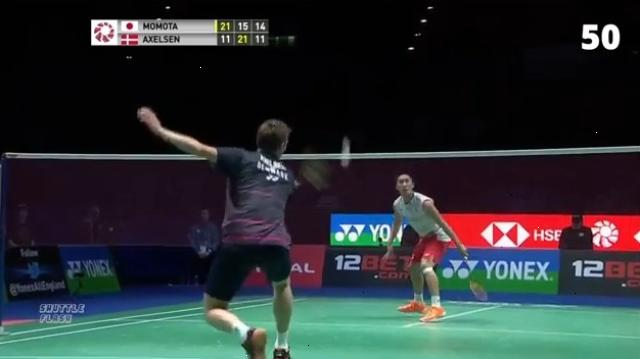Shuttlecock: (337, 139, 355, 167)
